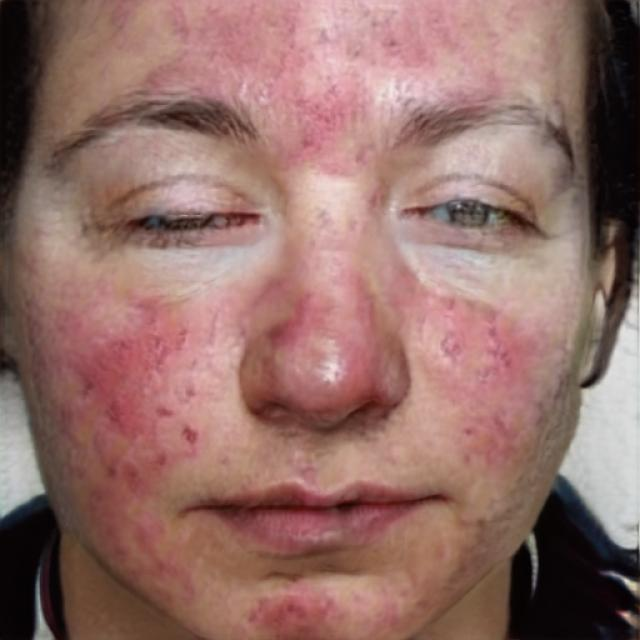Rosacea: (152, 5, 452, 170), (55, 288, 207, 495), (420, 298, 521, 470), (272, 271, 385, 396), (242, 589, 344, 638)
